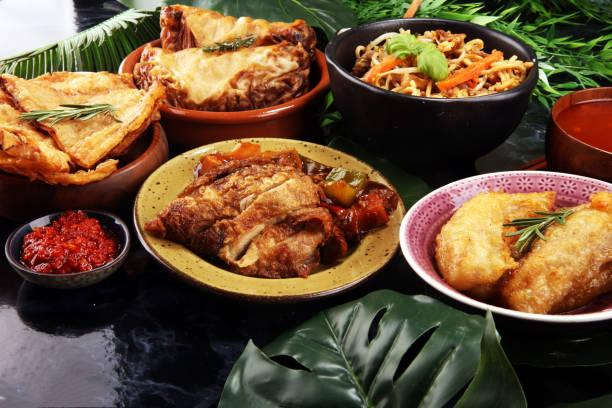Braised Crucian Carp: (130, 136, 398, 301), (397, 170, 609, 329), (324, 17, 535, 167), (123, 6, 330, 124), (0, 72, 165, 190)
